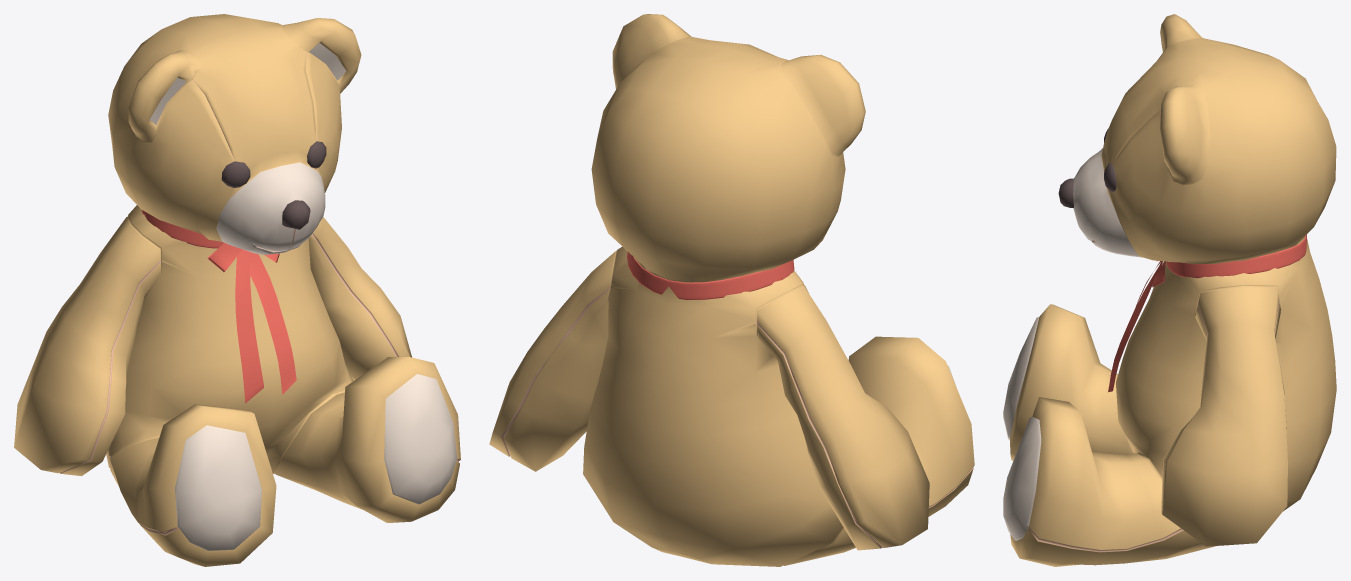
Rendered from Teddy.fbx.
The picture shows the model from 3 angles, left to right: view 1: azimuth 30°, elevation 25°; view 2: azimuth 150°, elevation 25°; view 3: azimuth 270°, elevation 25°; orthographic projection. The views are drawn at different scales.
Visible parts, largest first — view 1: kuma; view 2: kuma; view 3: kuma.
Part boxes in pixels (<box>): kuma: <box>14,14,460,566</box>; kuma: <box>489,14,974,566</box>; kuma: <box>1003,14,1336,566</box>.
Bounding box in the file's own units: 302 × 350 × 228.
